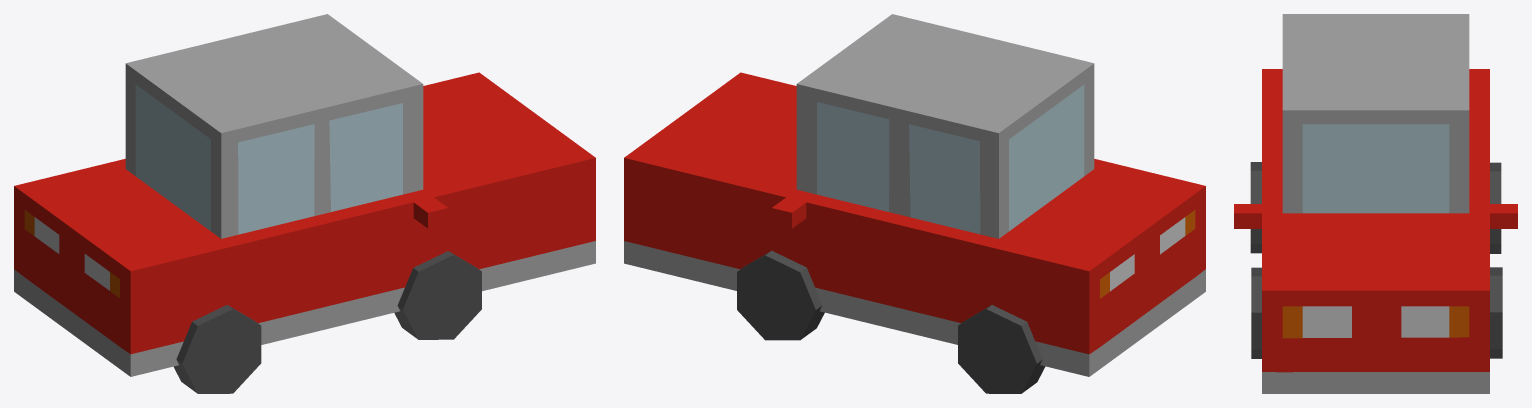
File: blockycar.fbx
3 renders of one model, left to right at view 1: azimuth 30°, elevation 25°; view 2: azimuth 150°, elevation 25°; view 3: azimuth 270°, elevation 25°, orthographic. The views are drawn at different scales.
Visible parts, largest first — view 1: car_maincube, rightbacktire, rightfronttire; view 2: car_maincube, leftfronttire, leftbacktire; view 3: car_maincube, leftfronttire, rightfronttire, rightbacktire, leftbacktire.
Part boxes in pixels (x1,y1,x2,y2): car_maincube: (14, 14, 595, 376); rightbacktire: (174, 305, 261, 393); rightfronttire: (394, 251, 481, 339); car_maincube: (624, 14, 1205, 376); leftfronttire: (737, 250, 824, 340); leftbacktire: (958, 305, 1045, 393); car_maincube: (1234, 14, 1517, 393); leftfronttire: (1490, 267, 1502, 358); rightfronttire: (1251, 267, 1261, 358); rightbacktire: (1250, 162, 1261, 253); leftbacktire: (1490, 162, 1501, 253).
Size of the model in its own units: 4.61 by 2.34 by 2.49.
